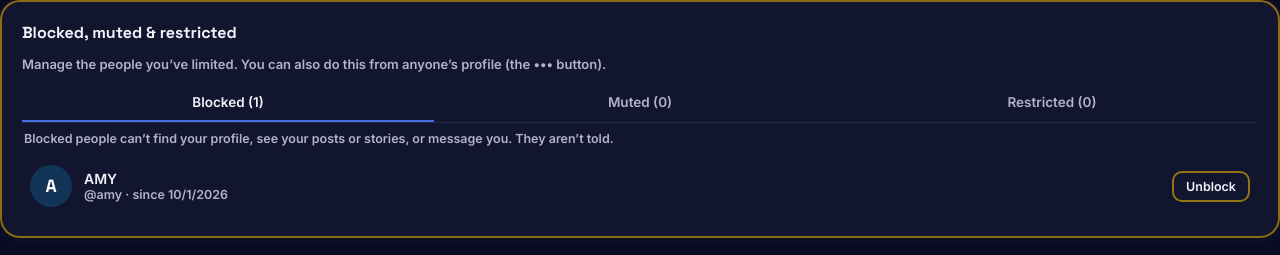
Settings: blocked / muted / restricted › an API failure shows an error instead of an endless spinner
Expected: the text "AMY" is shown, [84,170,117,187]
Click the tab "Muted (0)" at (640, 103), box [434,84,846,122]
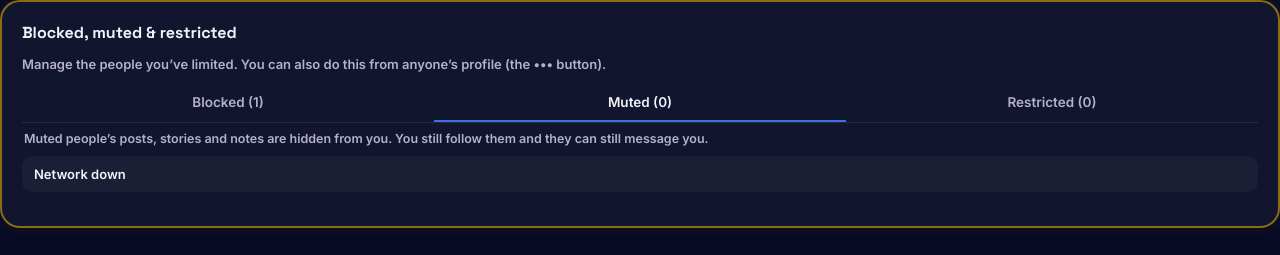
Expected: the text "Network down" is shown, [22,156,1258,192]
